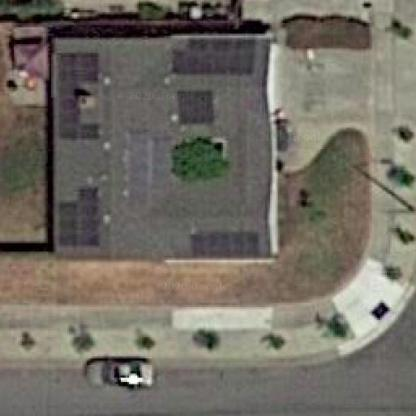car: (81, 346, 163, 392)
solar_panel: (56, 46, 110, 149), (162, 42, 263, 82), (56, 182, 104, 252), (182, 224, 266, 261), (165, 89, 228, 135)
